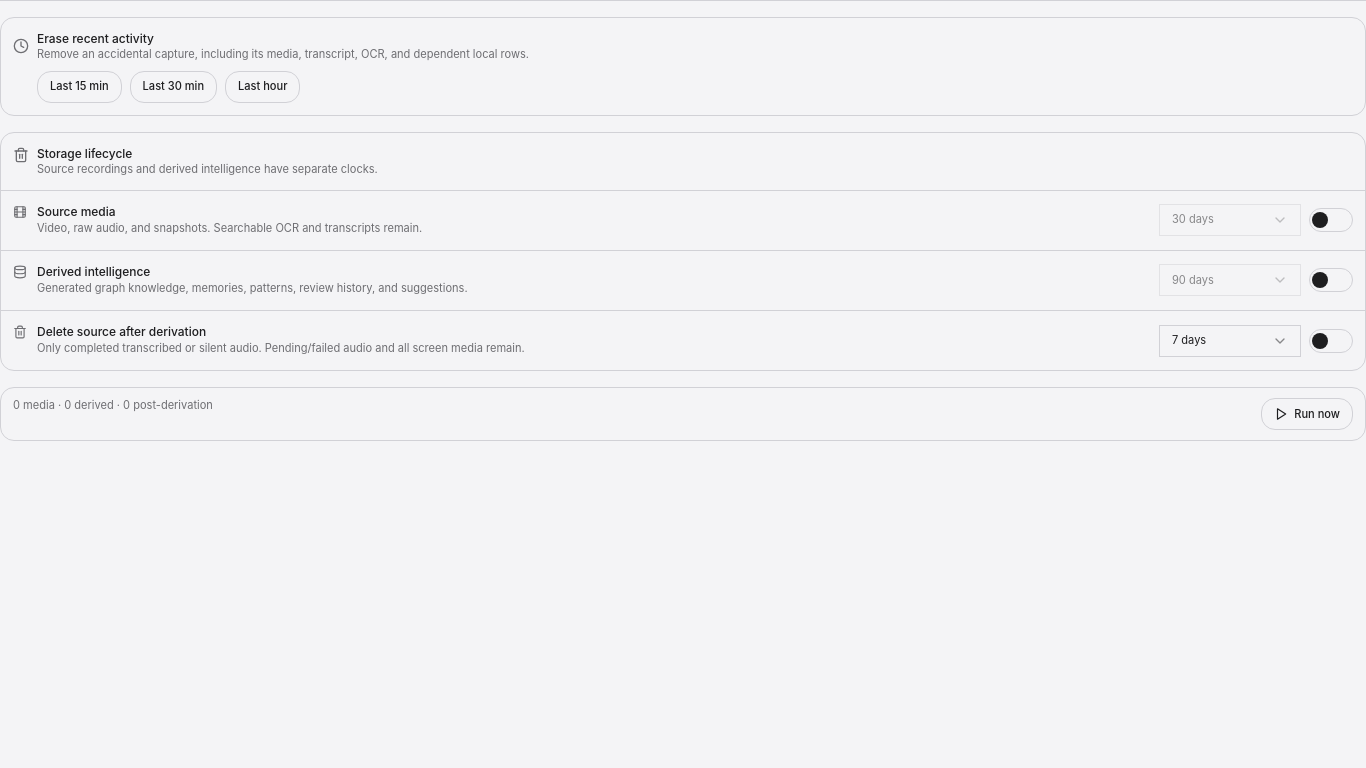
Scenario: RetentionSettings › previews source deletion and persists only the explicit source policy
This screenshot has width=1366, height=768.
Later steps or results of the test are not shown.
Click the switch named "Enable source media cleanup".
click(1331, 220)  # box top-left (1309, 208), bottom-right (1353, 232)
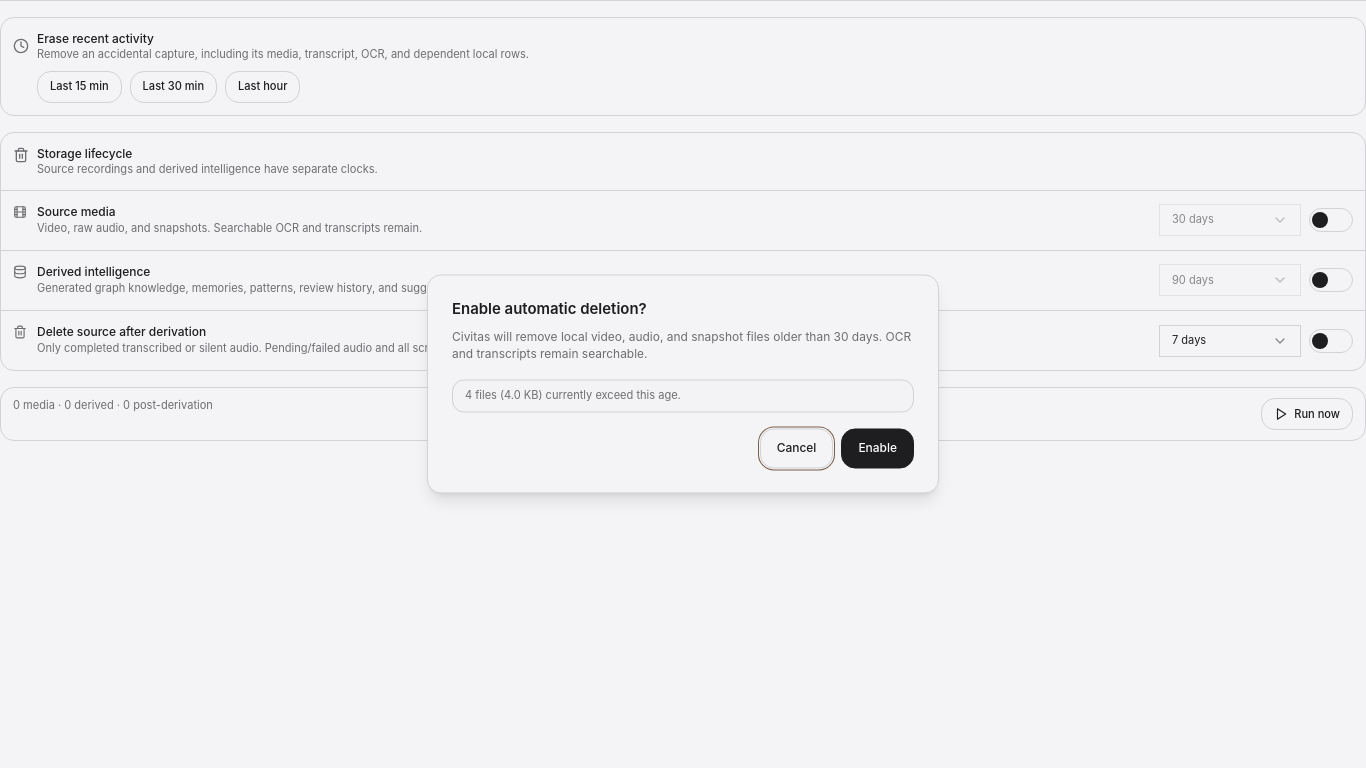
Now the text "OCR and transcripts remain searchable" is shown, box top-left (452, 329), bottom-right (911, 362)
Now the text "4 files (4.0 KB) currently exceed this age." is shown, box top-left (452, 379), bottom-right (914, 413)
